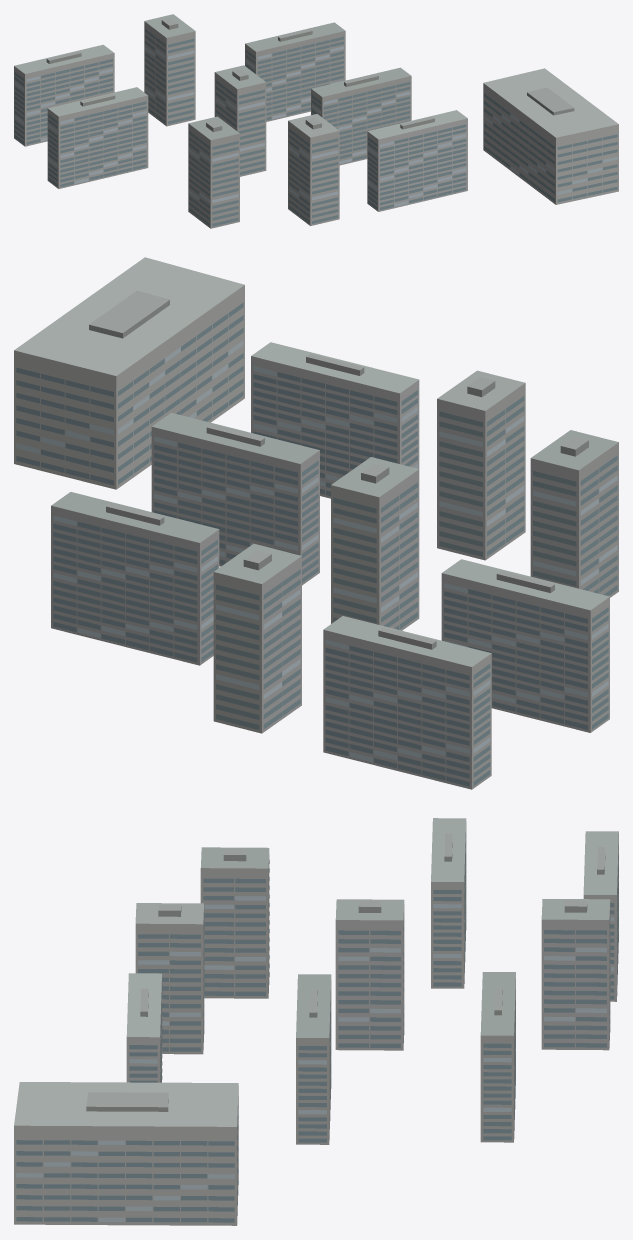
File: apt-a13983815.glb
The picture shows the model from 3 angles, top to bottom: view 1: azimuth 30°, elevation 25°; view 2: azimuth 150°, elevation 25°; view 3: azimuth 270°, elevation 25°; orthographic projection. The views are drawn at different scales.
Parts seen in each view (by area): view 1: apt-a13983815; view 2: apt-a13983815; view 3: apt-a13983815.
Part boxes in pixels (x1,y1,x2,y2): apt-a13983815: (14, 14, 618, 228); apt-a13983815: (14, 257, 618, 789); apt-a13983815: (14, 818, 618, 1225).
Size of the model in its own units: 237 by 50 by 201.
